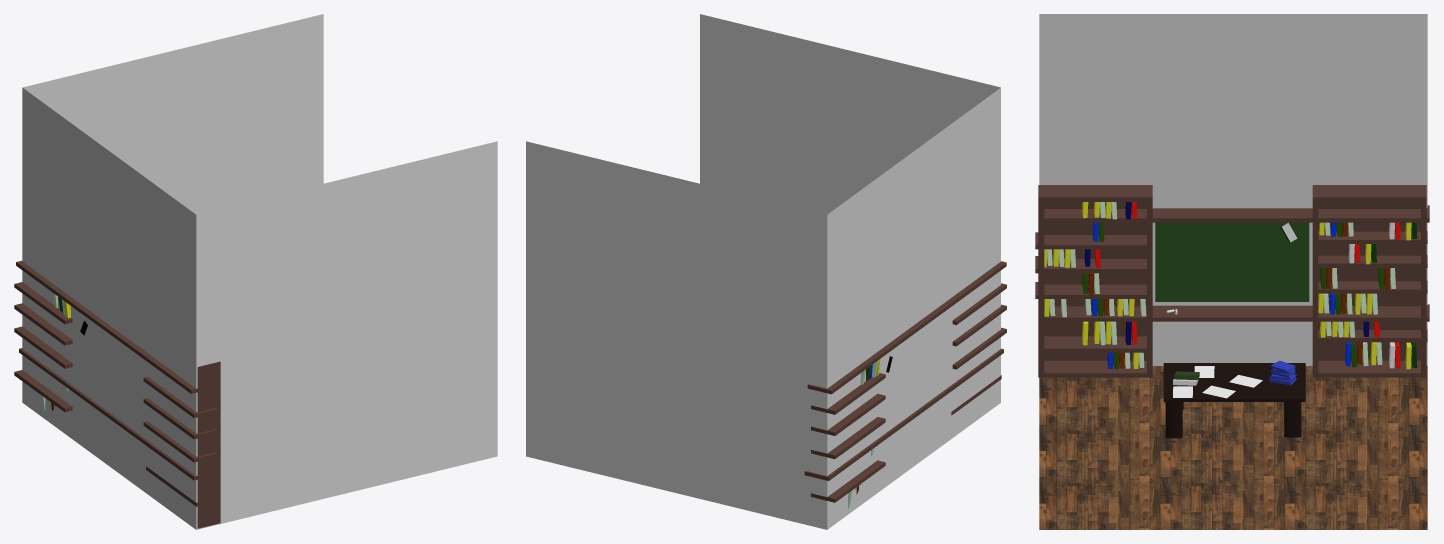
File: salleJournal.glb
The picture shows the model from 3 angles, left to right: view 1: azimuth 30°, elevation 25°; view 2: azimuth 150°, elevation 25°; view 3: azimuth 270°, elevation 25°; orthographic projection. The views are drawn at different scales.
Visible parts, largest first — view 1: Cube, Cube.046, Cube.006, Cube.047, Cube.005, Cube.087, Cube.007, Cube.003; view 2: Cube, Cube.006, Cube.047, Cube.007, Cube.087, Cube.005, Cube.003; view 3: Cube, Cube.084, Plane, Cube.002, Cube.046, Cube.047, Cube.006, Cube.001, Cube.008, Cube.050, Cube.049, Cube.048 (+7 smaller).
Part boxes in pixels (bbox=[...]): Cube: bbox=[22, 14, 497, 529]; Cube.046: bbox=[197, 361, 220, 528]; Cube.006: bbox=[16, 260, 197, 393]; Cube.047: bbox=[19, 348, 197, 480]; Cube.005: bbox=[14, 303, 72, 345]; Cube.087: bbox=[14, 370, 72, 412]; Cube.007: bbox=[14, 326, 72, 368]; Cube.003: bbox=[14, 282, 72, 324]; Cube: bbox=[526, 14, 1000, 529]; Cube.006: bbox=[807, 261, 1006, 394]; Cube.047: bbox=[804, 348, 1003, 480]; Cube.007: bbox=[811, 417, 885, 459]; Cube.087: bbox=[811, 460, 885, 502]; Cube.005: bbox=[811, 393, 885, 435]; Cube.003: bbox=[811, 373, 885, 414]; Cube: bbox=[1039, 14, 1427, 365]; Cube.084: bbox=[1039, 366, 1427, 529]; Plane: bbox=[1155, 222, 1309, 301]; Cube.002: bbox=[1312, 185, 1426, 377]; Cube.046: bbox=[1038, 185, 1152, 377]; Cube.047: bbox=[1044, 304, 1429, 321]; Cube.006: bbox=[1044, 205, 1429, 222]; Cube.001: bbox=[1163, 363, 1305, 401]; Cube.008: bbox=[1035, 232, 1146, 249]; Cube.050: bbox=[1044, 336, 1146, 352]; Cube.049: bbox=[1035, 282, 1146, 298]; Cube.048: bbox=[1035, 256, 1146, 273].
Bounding box in the file's own units: 2.86 × 2.8 × 2.83.
Materials: 28 (1 with a texture image).
